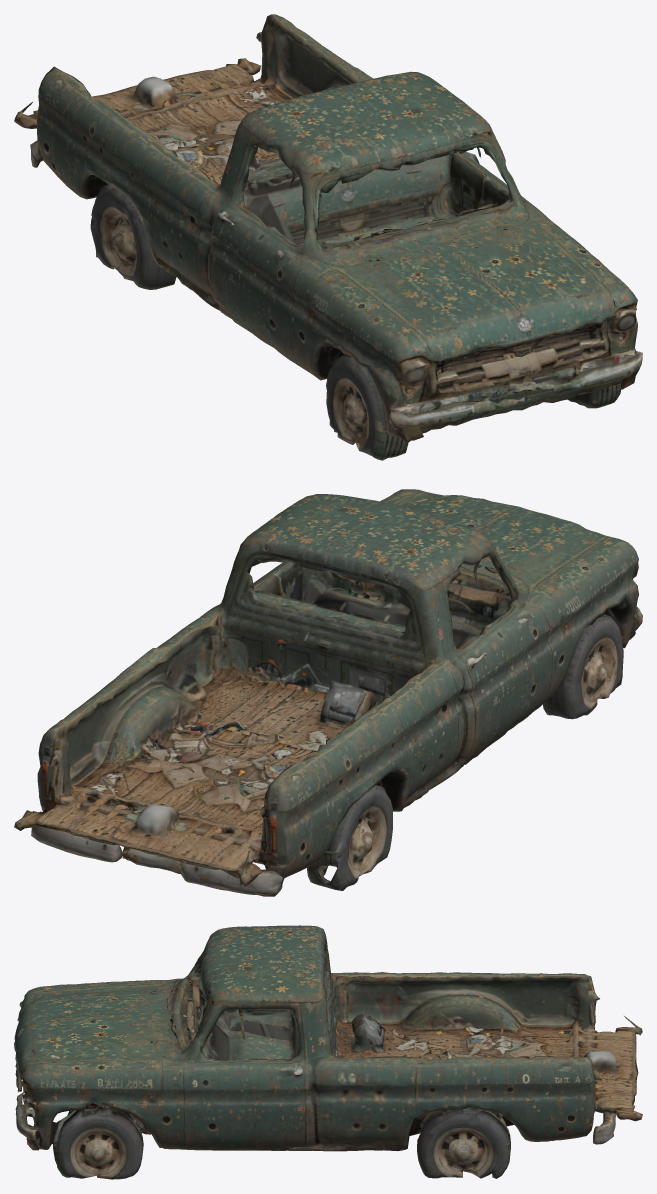
File: Prop_CarPickup.glb
3 views of the same model, one above another, from view 1: azimuth 30°, elevation 25°; view 2: azimuth 150°, elevation 25°; view 3: azimuth 270°, elevation 25° (orthographic). The views are drawn at different scales.
Parts seen in each view (by area): view 1: texture_mapping; view 2: texture_mapping; view 3: texture_mapping.
Part boxes in pixels (box(x1,y1,x2,y2)): texture_mapping: box(14, 14, 642, 460); texture_mapping: box(14, 489, 642, 896); texture_mapping: box(14, 925, 642, 1179).
Size of the model in its own units: 0.3848 by 0.3153 by 0.9954.
Materials: 1 (1 with a texture image).
